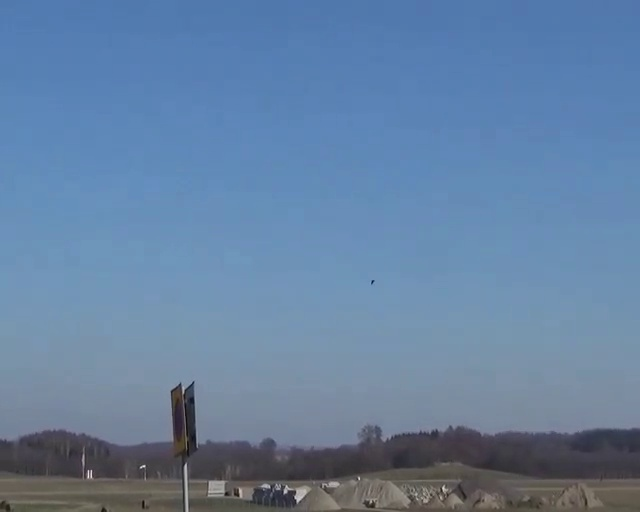BIRD: (369, 279, 376, 286)
